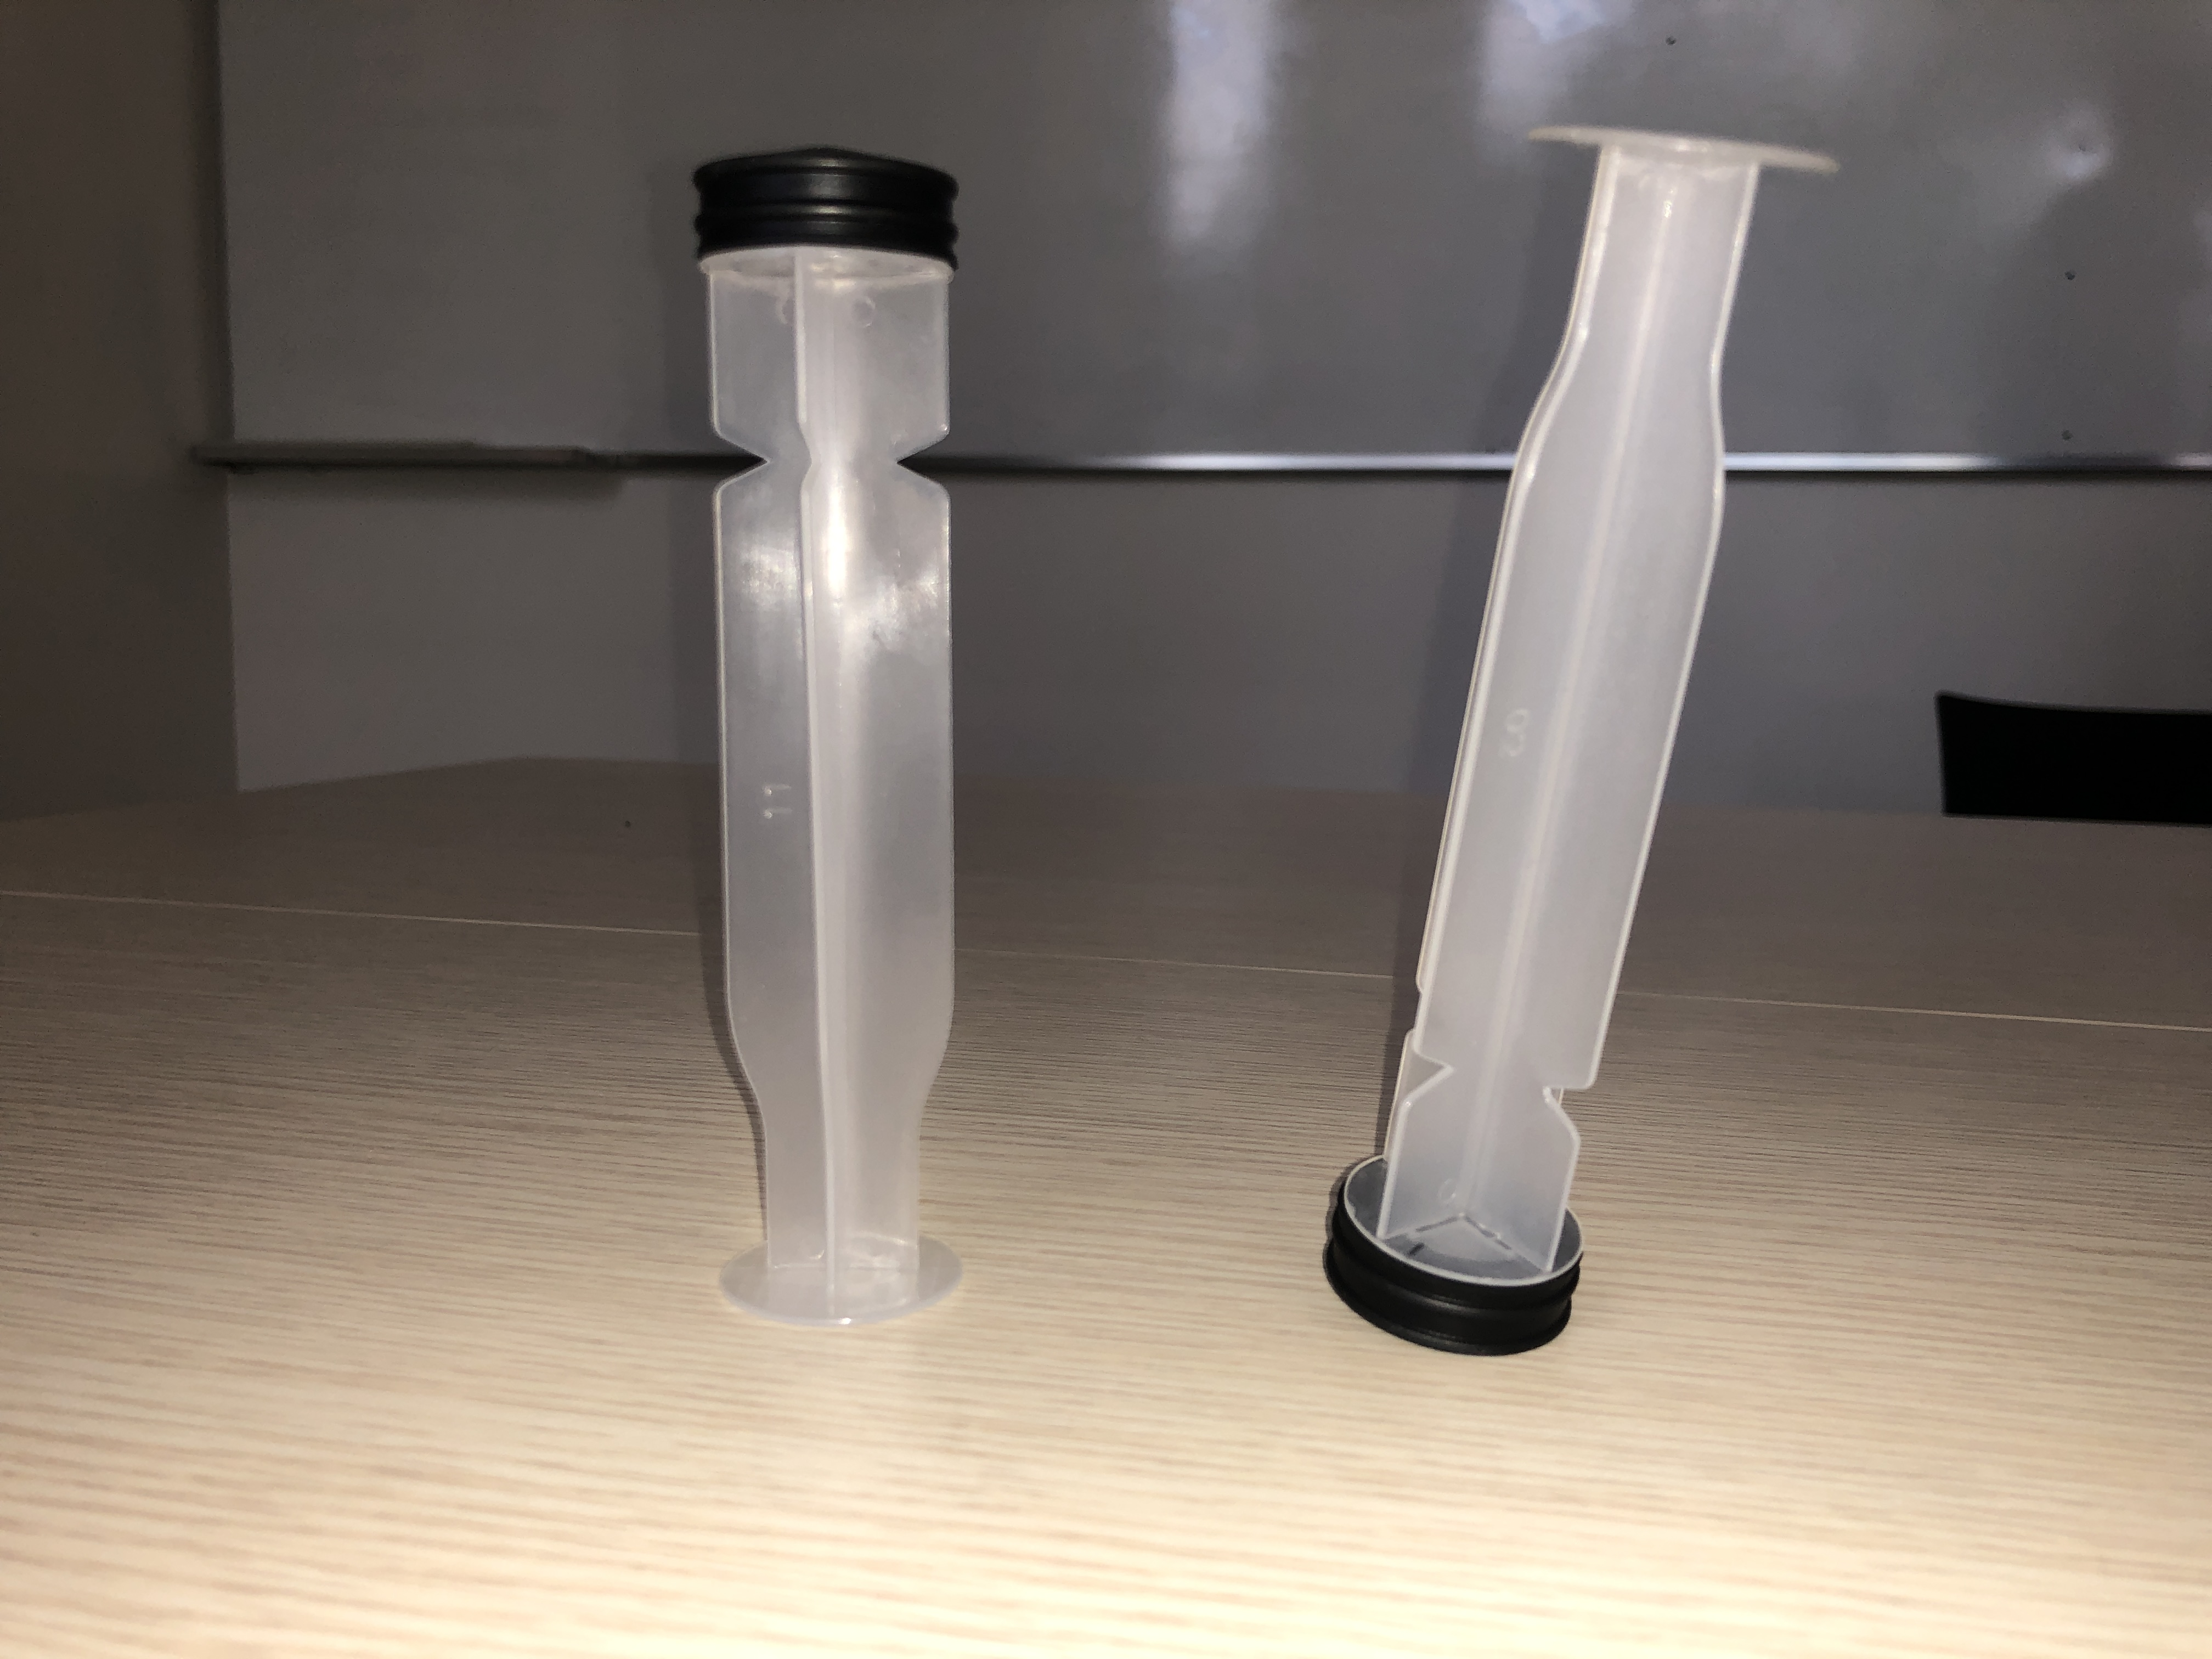plunger: (1318, 120, 1850, 1366), (681, 139, 981, 1330)
